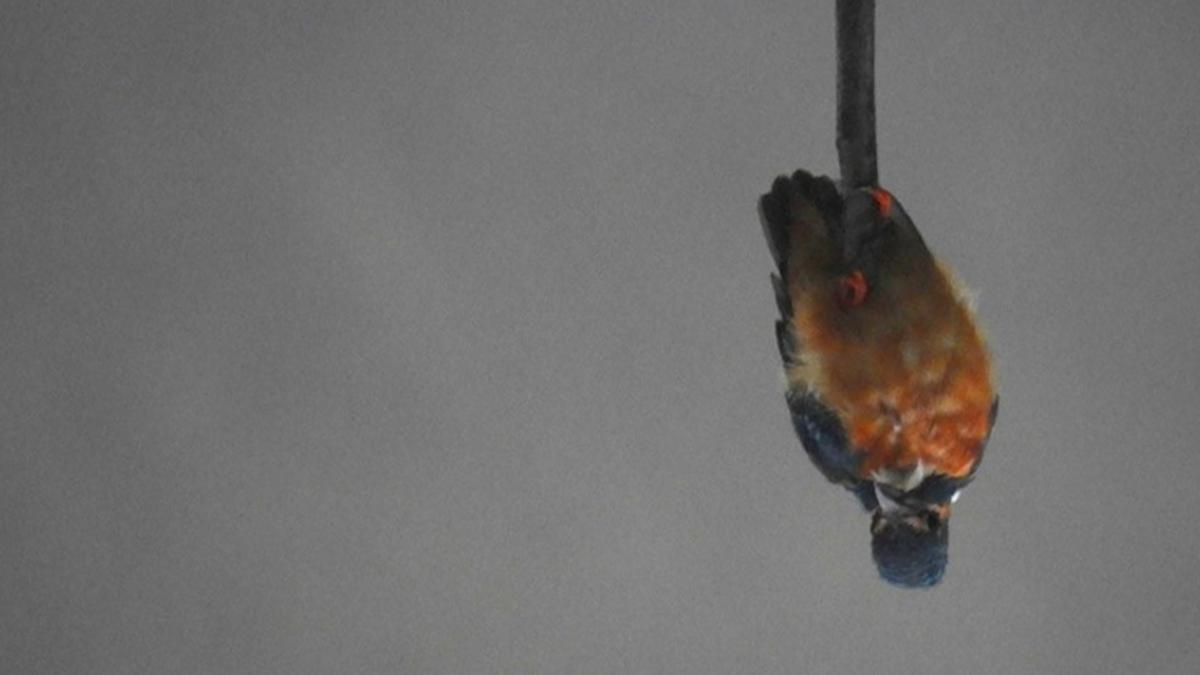kingfisher: (739, 175, 1035, 618)
